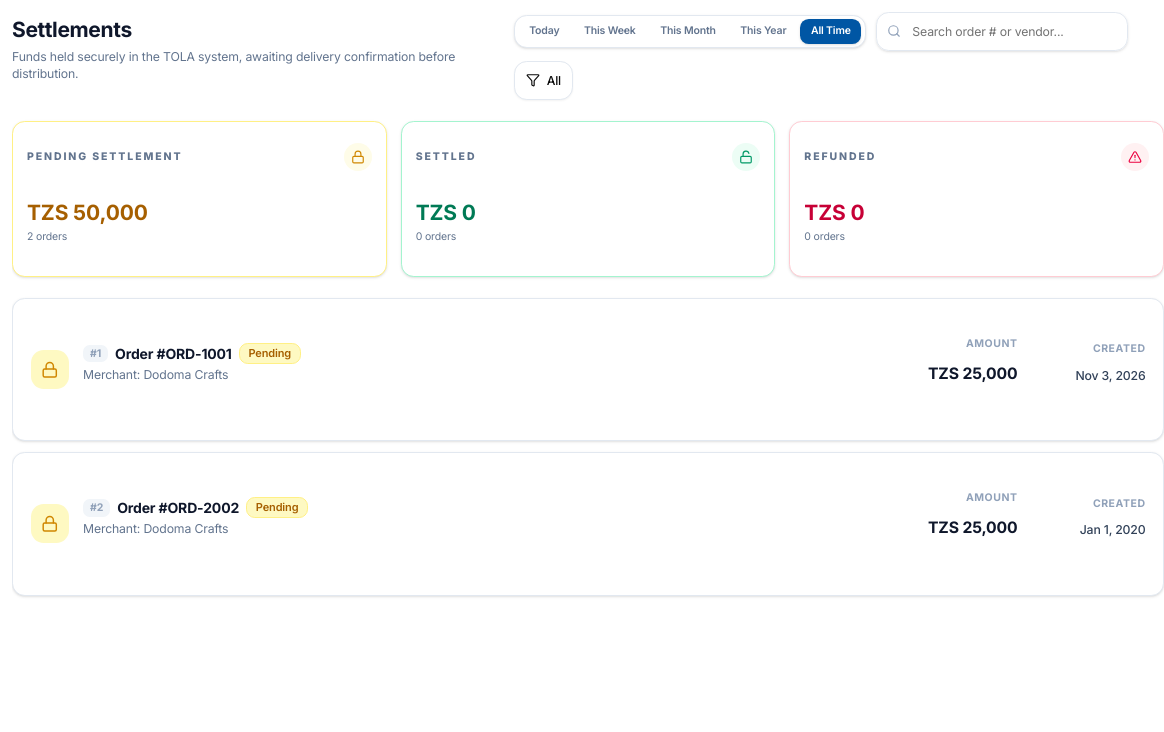
it: FinanceSettlementsTab › date range filter › excludes transactions created before the selected period
Click the button "Today" at (544, 31), box [519,19,570,44]
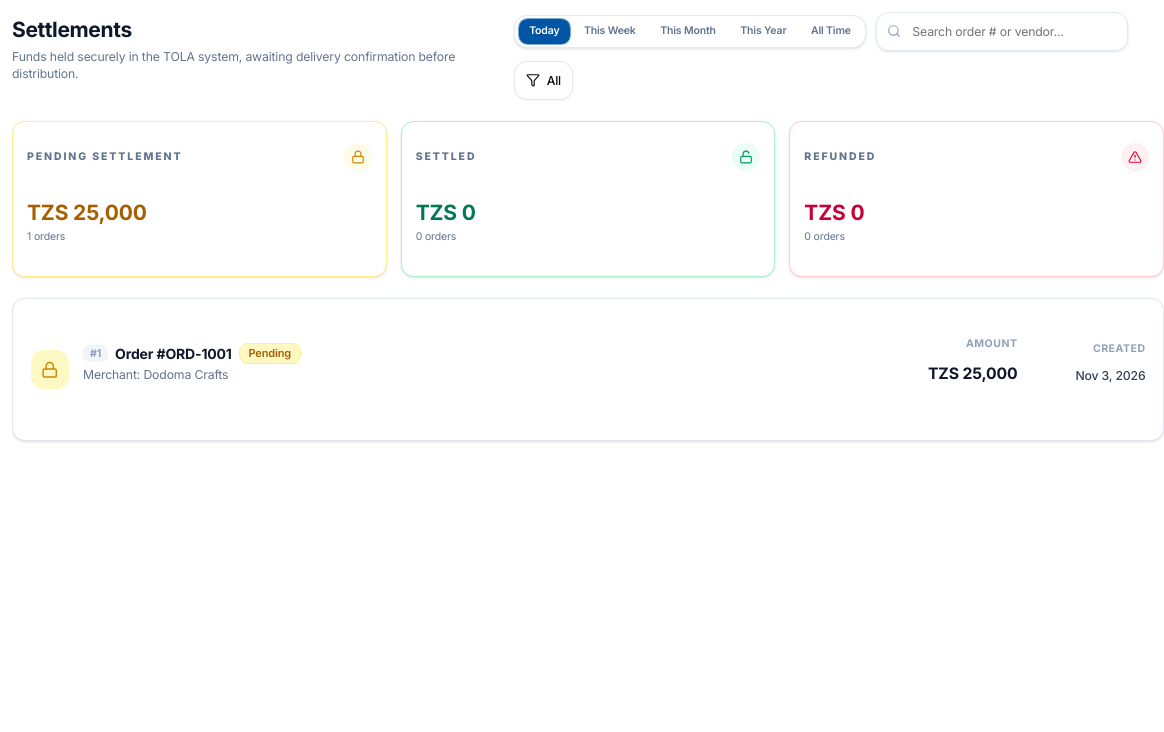
Expected: the text "Order #ORD-1001" is shown, [115,344,232,363]
Result: the text "Order #ORD-2002" is gone
